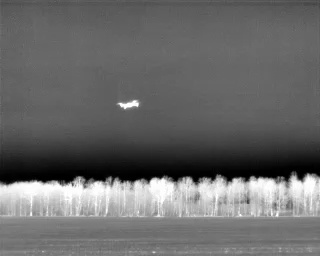DRONE: (114, 95, 144, 114)
